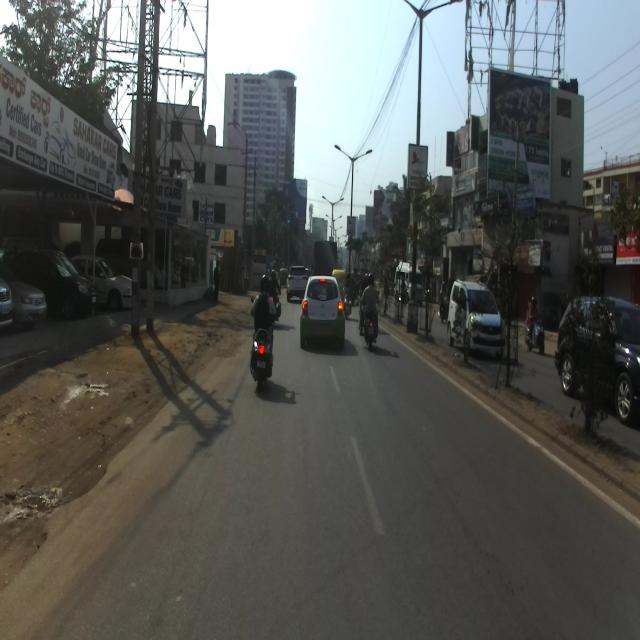Car: (554, 294, 640, 427)
Car_Hyundai: (71, 252, 140, 314)
Car_Maruti-Suzuki: (446, 279, 505, 358)
Car_Nissan: (299, 274, 345, 350)
motorcycle_RoyalEnfield: (358, 288, 380, 351)
scooter: (249, 295, 279, 391)
